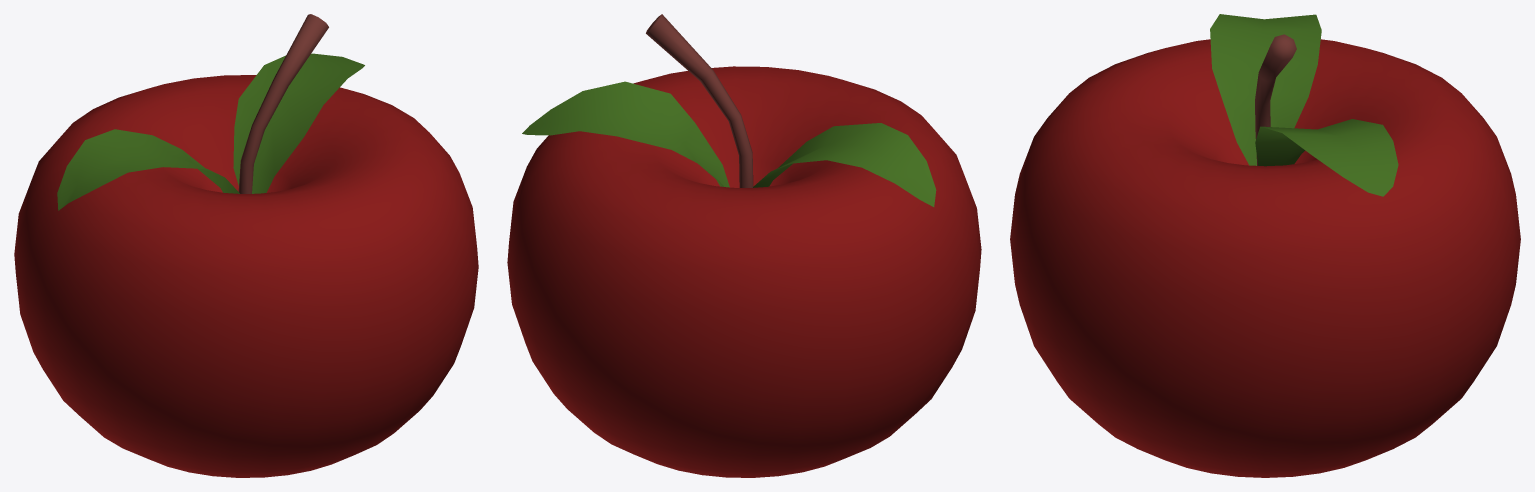
Rendered from apple.fbx.
The picture shows the model from 3 angles, left to right: view 1: azimuth 30°, elevation 25°; view 2: azimuth 150°, elevation 25°; view 3: azimuth 270°, elevation 25°; orthographic projection. The views are drawn at different scales.
Visible parts, largest first — view 1: Apple, Leaf_1, Leaf_2, Stub; view 2: Apple, Leaf_1, Leaf_2, Stub; view 3: Apple, Leaf_2, Leaf_1, Stub.
Boxes of the visible parts, x1=… form: Apple: x1=14, y1=75, x2=478, y2=477; Leaf_1: x1=233, y1=53, x2=364, y2=193; Leaf_2: x1=57, y1=129, x2=239, y2=210; Stub: x1=238, y1=14, x2=328, y2=193; Apple: x1=507, y1=66, x2=981, y2=477; Leaf_1: x1=522, y1=81, x2=729, y2=187; Leaf_2: x1=753, y1=123, x2=936, y2=206; Stub: x1=646, y1=14, x2=753, y2=187; Apple: x1=1010, y1=39, x2=1520, y2=477; Leaf_2: x1=1210, y1=14, x2=1321, y2=165; Leaf_1: x1=1255, y1=119, x2=1398, y2=196; Stub: x1=1255, y1=34, x2=1296, y2=165.
Size of the model in its own units: 25.41 by 24.14 by 25.41.
